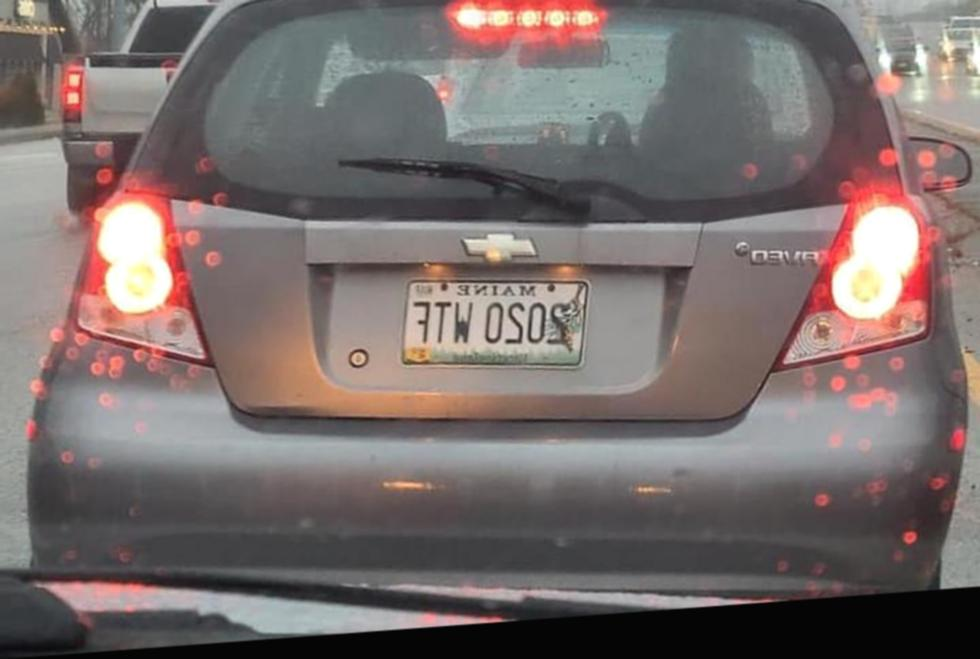License_Plate: (389, 261, 595, 388)
